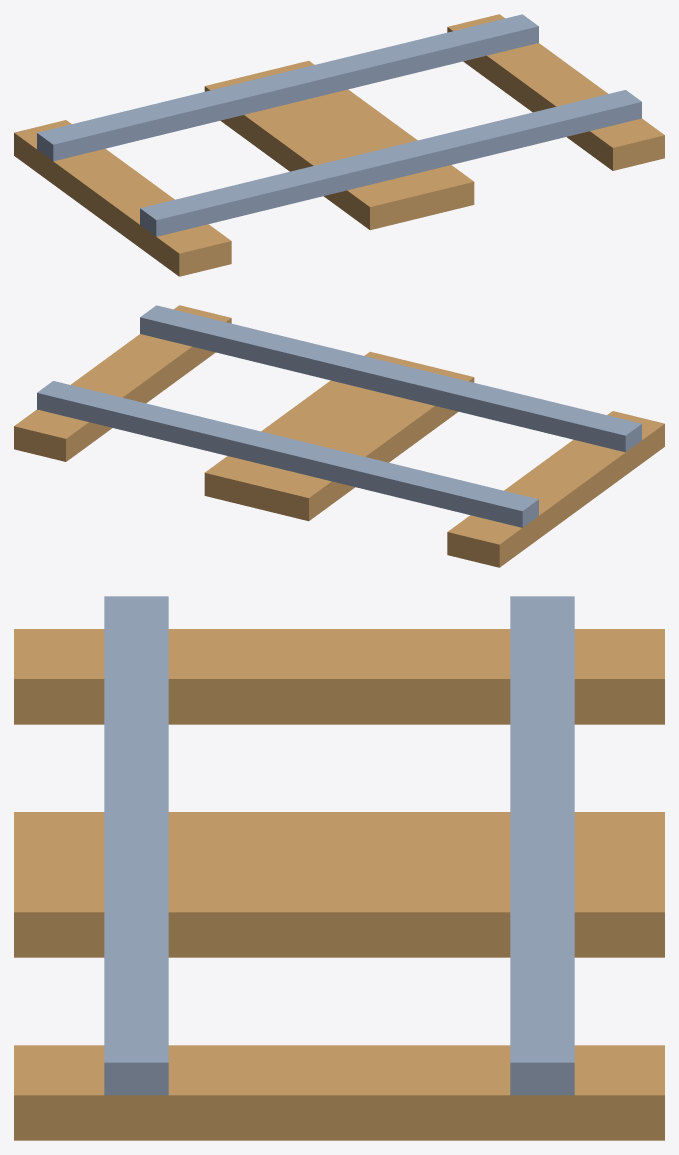
File: trackStraight.fbx
3 views of the same model, one above another, from view 1: azimuth 30°, elevation 25°; view 2: azimuth 150°, elevation 25°; view 3: azimuth 270°, elevation 25° (orthographic). The views are drawn at different scales.
Visible parts, largest first — view 1: trackStraight; view 2: trackStraight; view 3: trackStraight.
Part boxes in pixels (bbox=[...]): trackStraight: bbox=[14, 14, 664, 276]; trackStraight: bbox=[14, 305, 664, 567]; trackStraight: bbox=[14, 596, 664, 1140].
Size of the model in its own units: 3.08 by 0.241 by 1.82.
